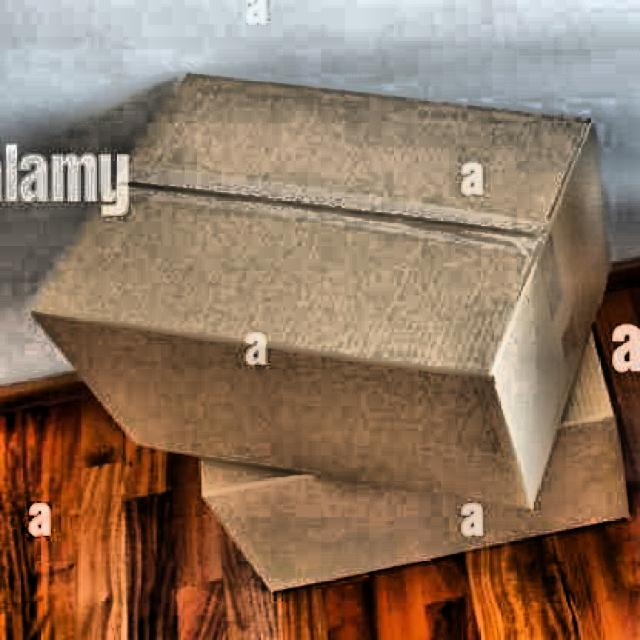Cardbox: (23, 59, 640, 514)
